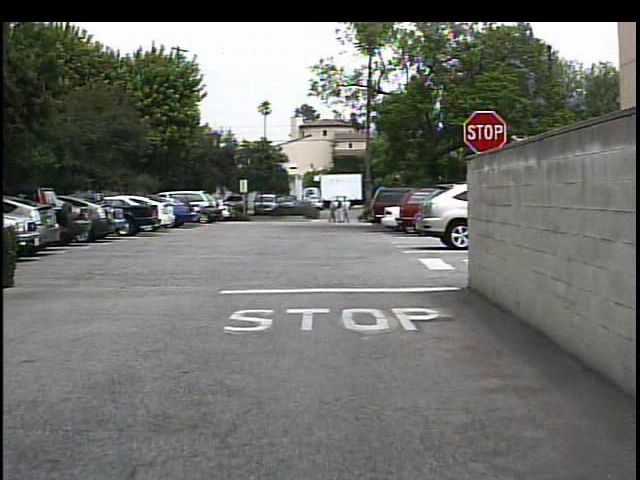person: (338, 199, 352, 226), (323, 200, 337, 226)
